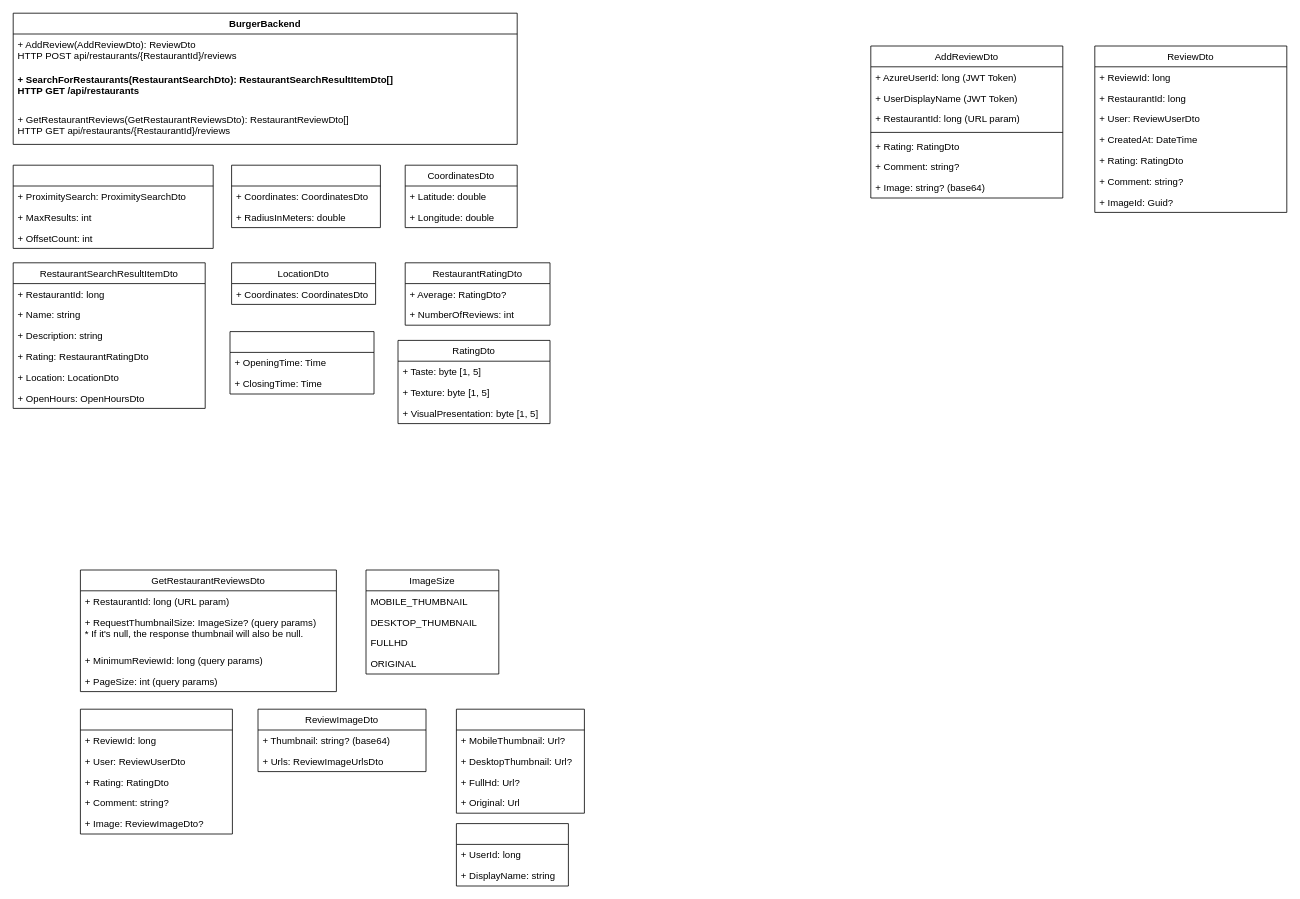
Image size: 1300x899. Some labels were removed from this diagram. Each missing label, with the box of its shape:
OpenHoursDto: (229, 331, 374, 394)
ProximitySearchDto: (231, 164, 380, 228)
RestaurantReviewDto: (80, 708, 232, 834)
RestaurantSearchDto (query params): (12, 164, 213, 248)
ReviewImageUrlsDto: (456, 708, 584, 813)
ReviewUserDto: (456, 823, 568, 886)
